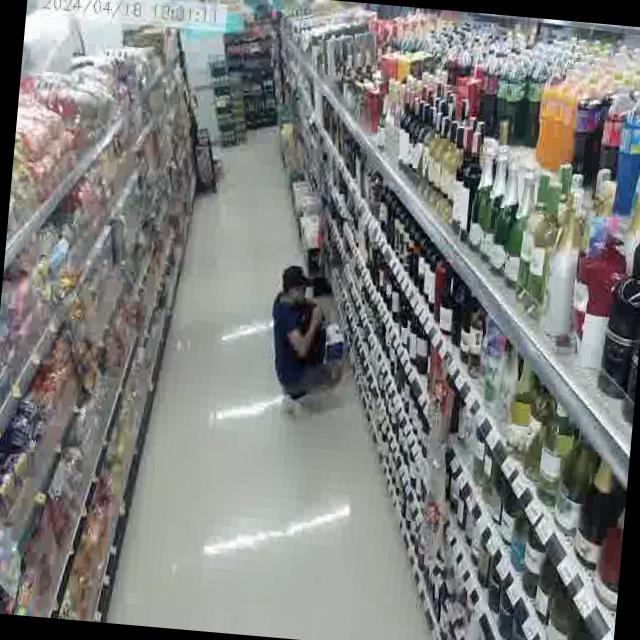shoplifting: (255, 255, 360, 434)
